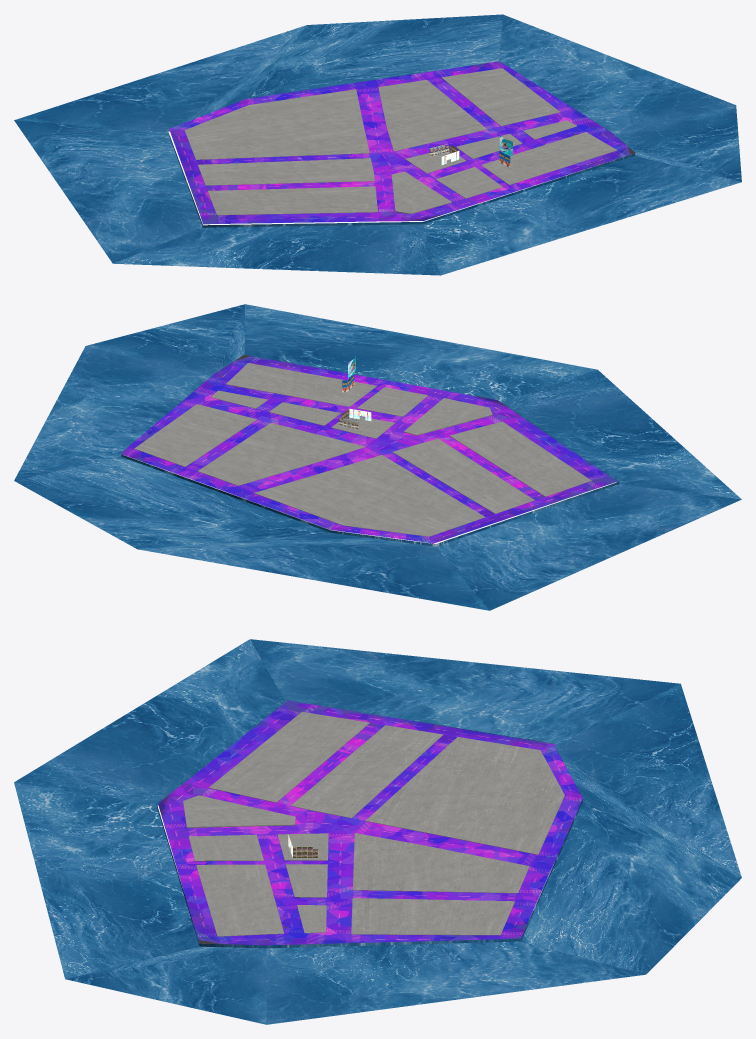
3 views of the same model, one above another, from view 1: azimuth 30°, elevation 25°; view 2: azimuth 150°, elevation 25°; view 3: azimuth 270°, elevation 25° (orthographic). The views are drawn at different scales.
Visible parts, largest first — view 1: node_sea_-1531494, node_ground_2_-1531478, node_pPlane1_-1531486; view 2: node_sea_-1531494, node_ground_2_-1531478, node_pPlane1_-1531486; view 3: node_sea_-1531494, node_ground_2_-1531478, node_pPlane1_-1531486.
Boxes of the visible parts, x1,y1,x2,y2 form: node_sea_-1531494: (14,14,741,275); node_ground_2_-1531478: (184,68,617,215); node_pPlane1_-1531486: (169,61,635,224); node_sea_-1531494: (14,304,741,610); node_ground_2_-1531478: (134,363,591,536); node_pPlane1_-1531486: (120,355,617,543); node_sea_-1531494: (14,639,741,1024); node_ground_2_-1531478: (188,711,564,936); node_pPlane1_-1531486: (158,700,582,945).
Size of what is drawn, in the model's own units: 1125 by 63.96 by 897.
Materials: 11 (9 with a texture image).
